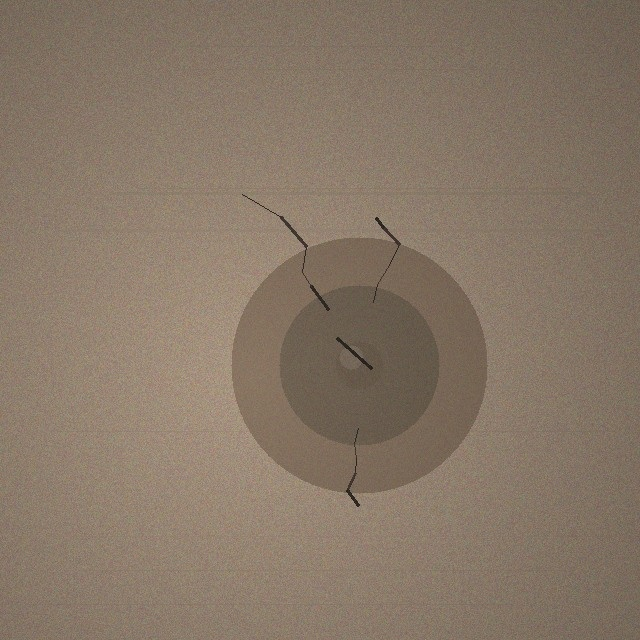crack: (231, 237, 487, 493)
